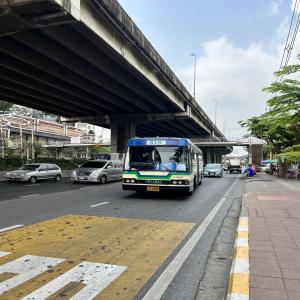BMTA-bus: (121, 137, 203, 197)
Bus Line Number: (147, 140, 166, 145)
Bus Side Number: (172, 175, 184, 179)
Destination Sign: (156, 163, 176, 170)
